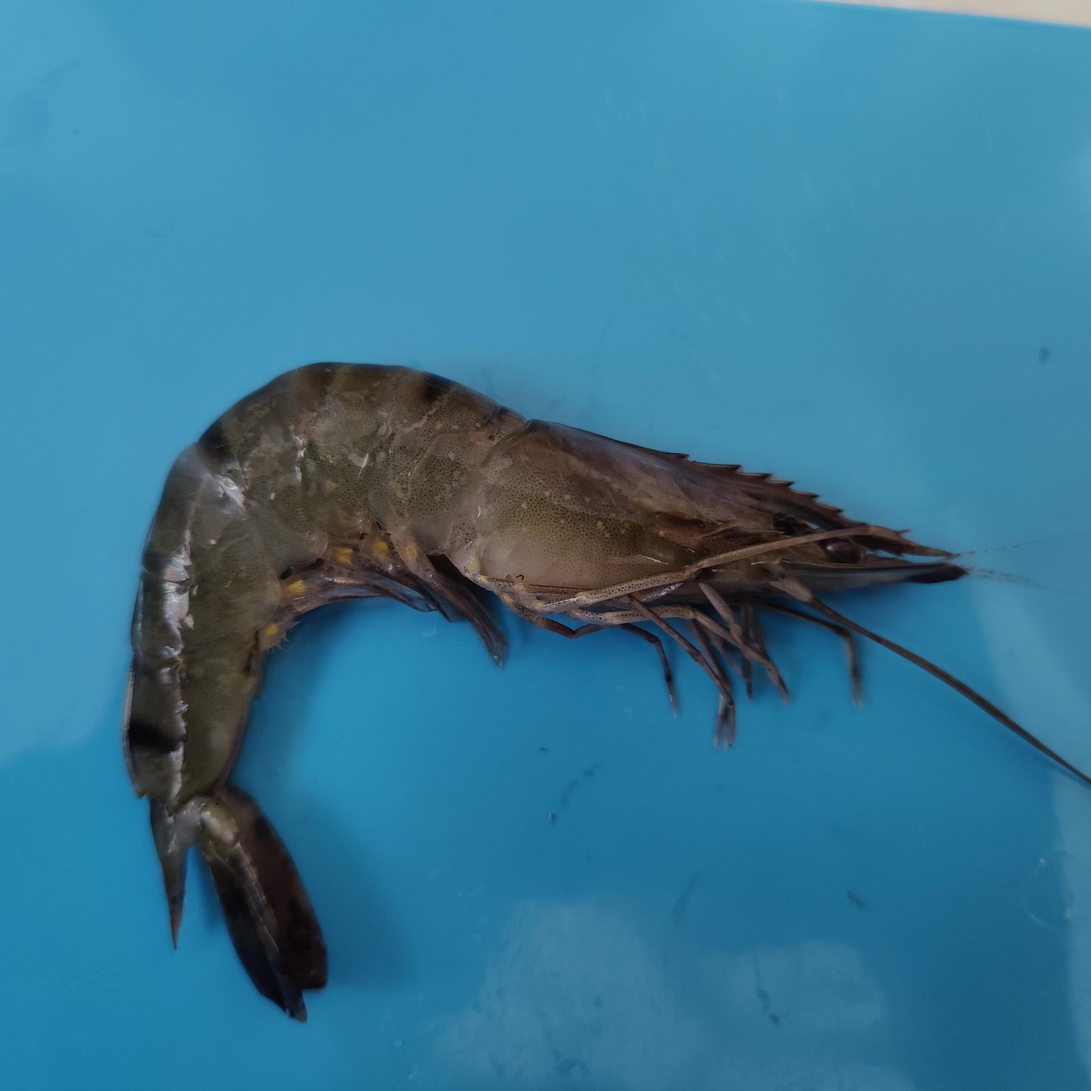whitespot: (211, 375, 783, 547)
